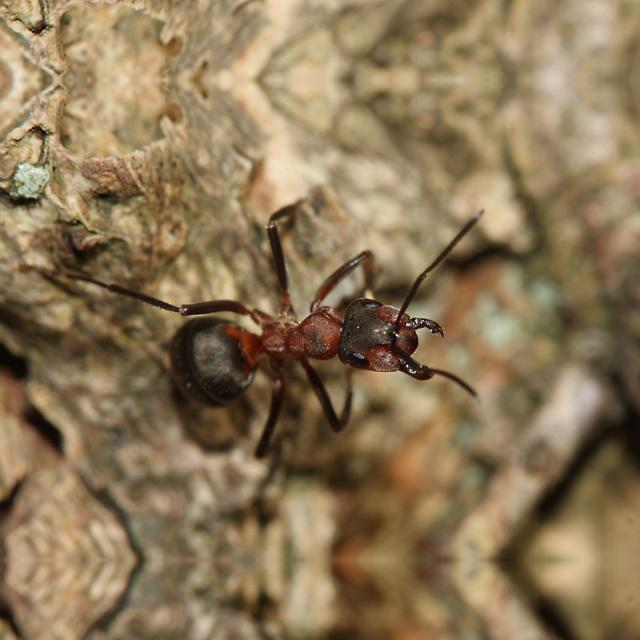Formica: (158, 227, 470, 449)
